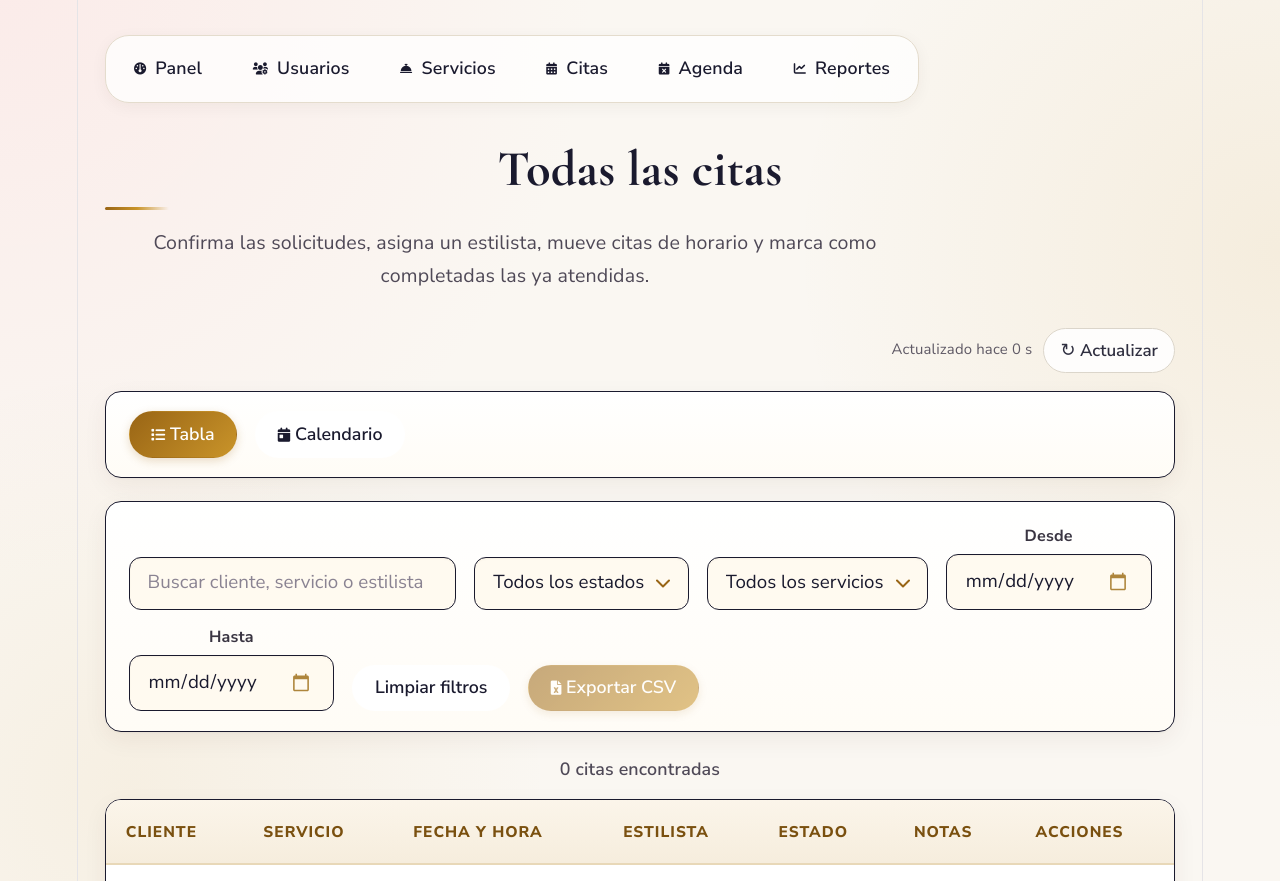
Test: AdminAppointments › abre el calendario del día con una columna por estilista y las citas sin asignar
The image size is (1280, 881).
What coordinates should you click on to do the following:
click the button "Calendario"
I would click on:
 (330, 435)
Its box is [255,411,405,458].
(page scrolled)
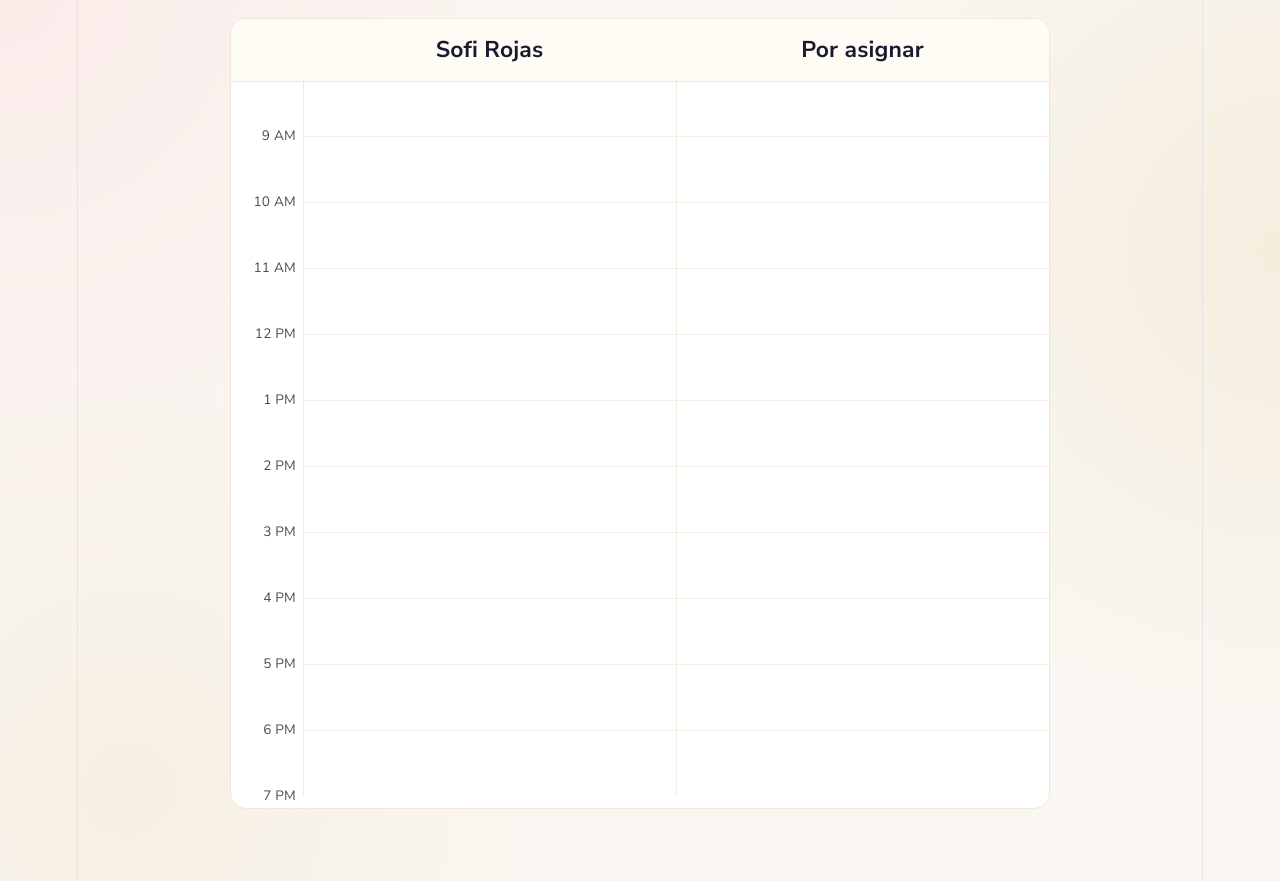
Expected: the element named "Sofi Rojas" is shown, [303,70,676,796]
Expected: the element named "Por asignar" is shown, [676,70,1049,796]
